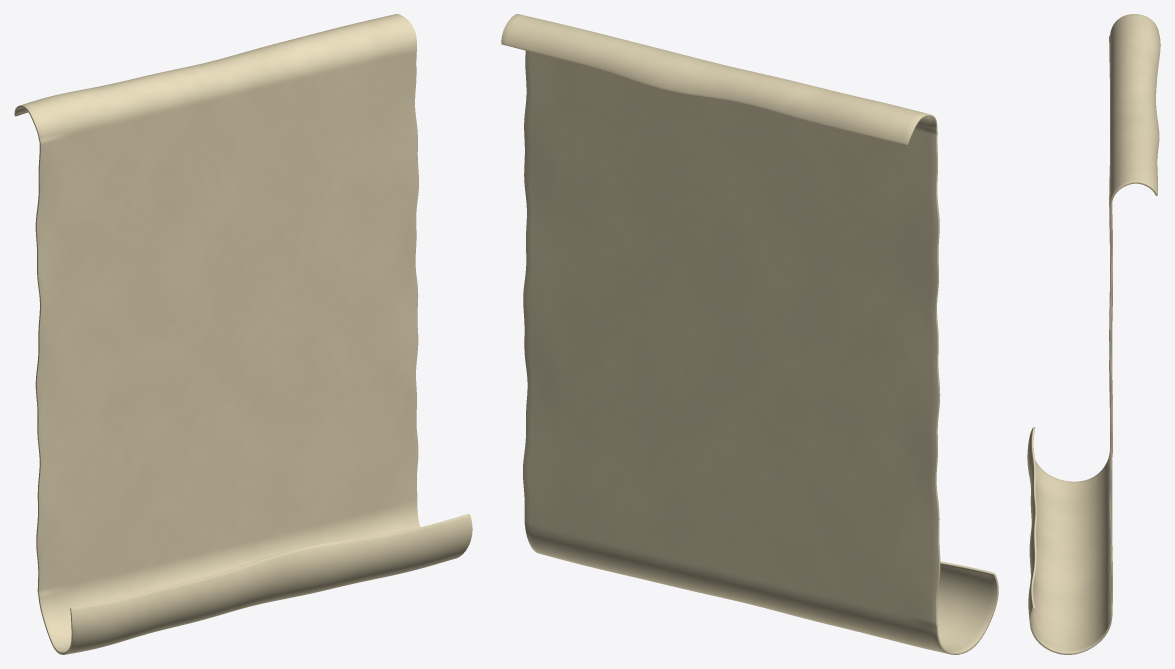
The model's file is Fantasy_Parchment_Scroll_Textured.glb.
3 views of the same model, side by side, from view 1: azimuth 30°, elevation 25°; view 2: azimuth 150°, elevation 25°; view 3: azimuth 270°, elevation 25° (orthographic). The views are drawn at different scales.
Visible parts, largest first — view 1: Fantasy_Parchment_Scroll; view 2: Fantasy_Parchment_Scroll; view 3: Fantasy_Parchment_Scroll.
Boxes of the visible parts, x1,y1,x2,y2 form: Fantasy_Parchment_Scroll: [14, 14, 472, 654]; Fantasy_Parchment_Scroll: [501, 14, 998, 654]; Fantasy_Parchment_Scroll: [1027, 14, 1160, 654].
Bounding box in the file's own units: 4.28 × 5.29 × 1.35.
1 material, 1 textured.
